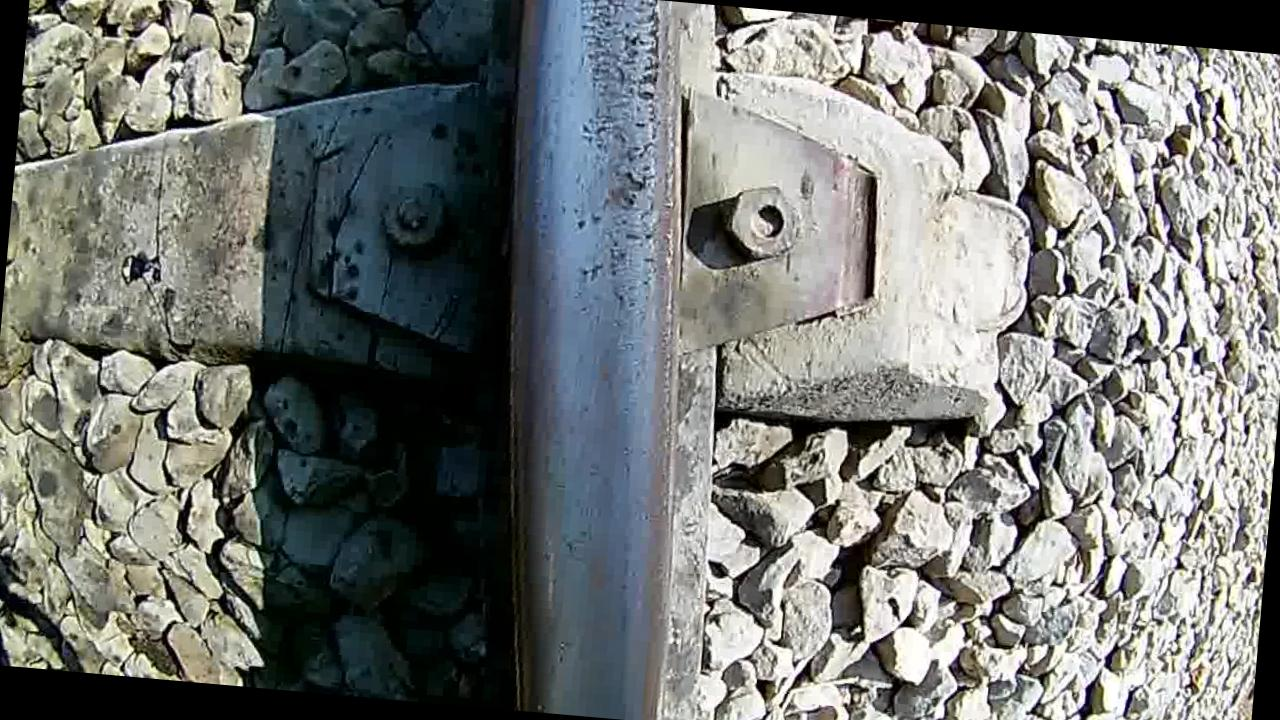crack: (477, 0, 702, 720)
